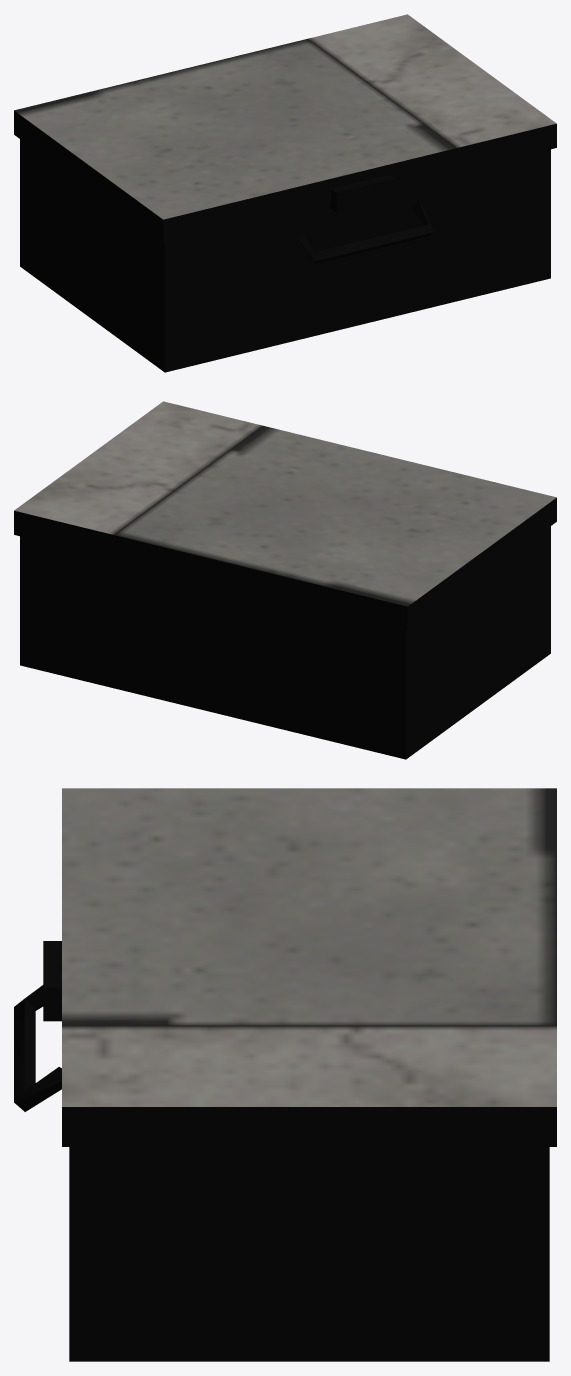
File: first_aid_box.fbx
3 views of the same model, one above another, from view 1: azimuth 30°, elevation 25°; view 2: azimuth 150°, elevation 25°; view 3: azimuth 270°, elevation 25° (orthographic). The views are drawn at different scales.
Visible parts, largest first — view 1: first_aid_box_lid, first_aid_box; view 2: first_aid_box_lid, first_aid_box; view 3: first_aid_box_lid, first_aid_box.
Part boxes in pixels (<box>): first_aid_box_lid: <box>14,14,556,243</box>; first_aid_box: <box>20,139,550,372</box>; first_aid_box_lid: <box>14,401,556,630</box>; first_aid_box: <box>20,526,550,759</box>; first_aid_box_lid: <box>43,788,556,1146</box>; first_aid_box: <box>14,985,549,1361</box>.
Bounding box in the file's own units: 0.204 × 0.077 × 0.147.
